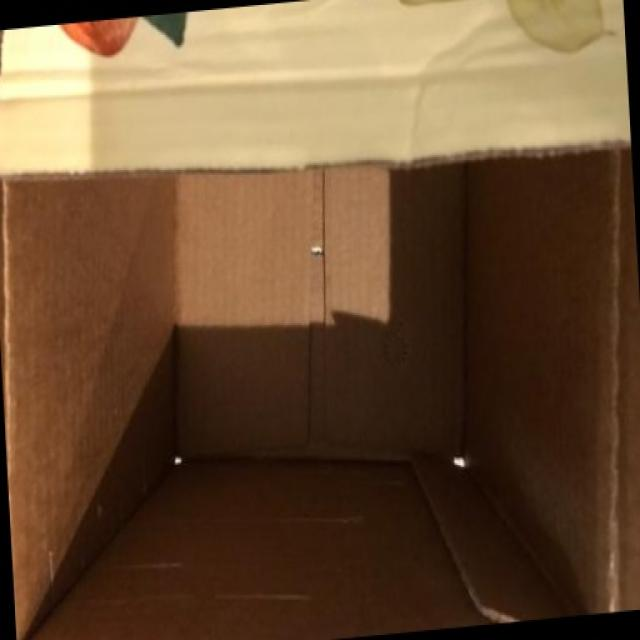carton: (103, 86, 425, 625)
